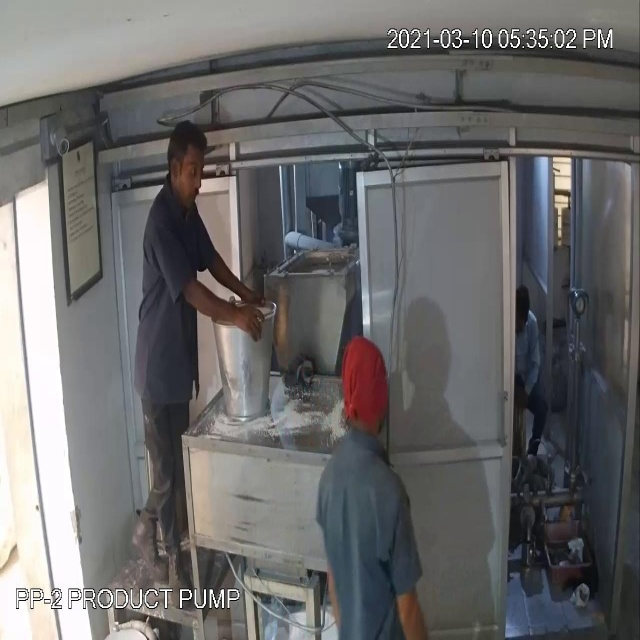Sin_guantes: (178, 255, 278, 357)
